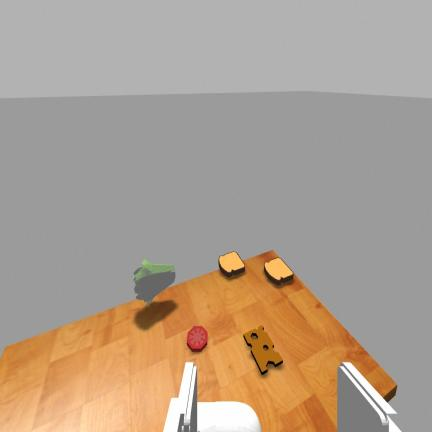cheese: (244, 325, 282, 374)
lettuce: (134, 260, 175, 305)
sliced_bread: (264, 258, 293, 284), (219, 251, 245, 277)
sliced_tomato: (187, 326, 207, 351)
